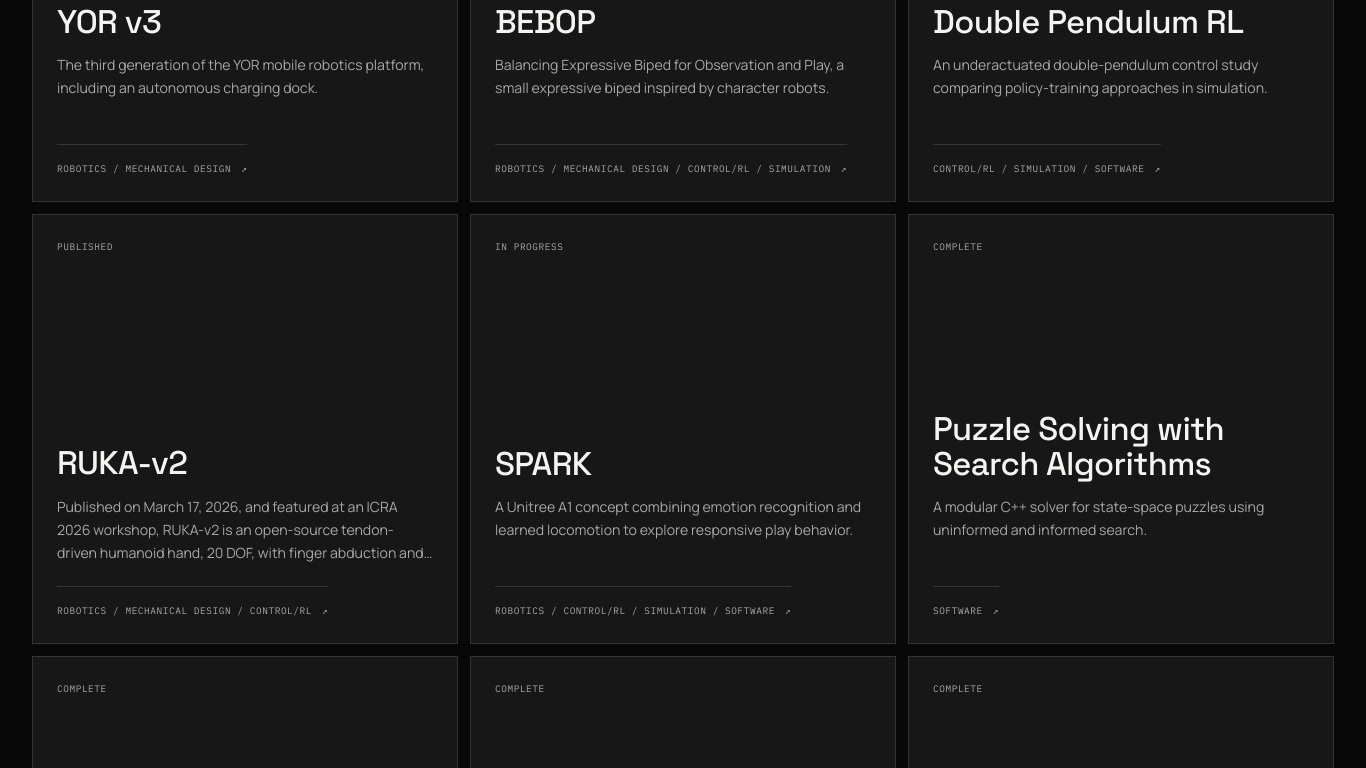
Test case: ProjectCatalogue › opens from pointer activation even when the browser does not focus buttons
This screenshot has width=1366, height=768.
(page scrolled)
Click the button with aria-label "Open RUKA-v2 details" at (245, 429), box [33,215,457,643]
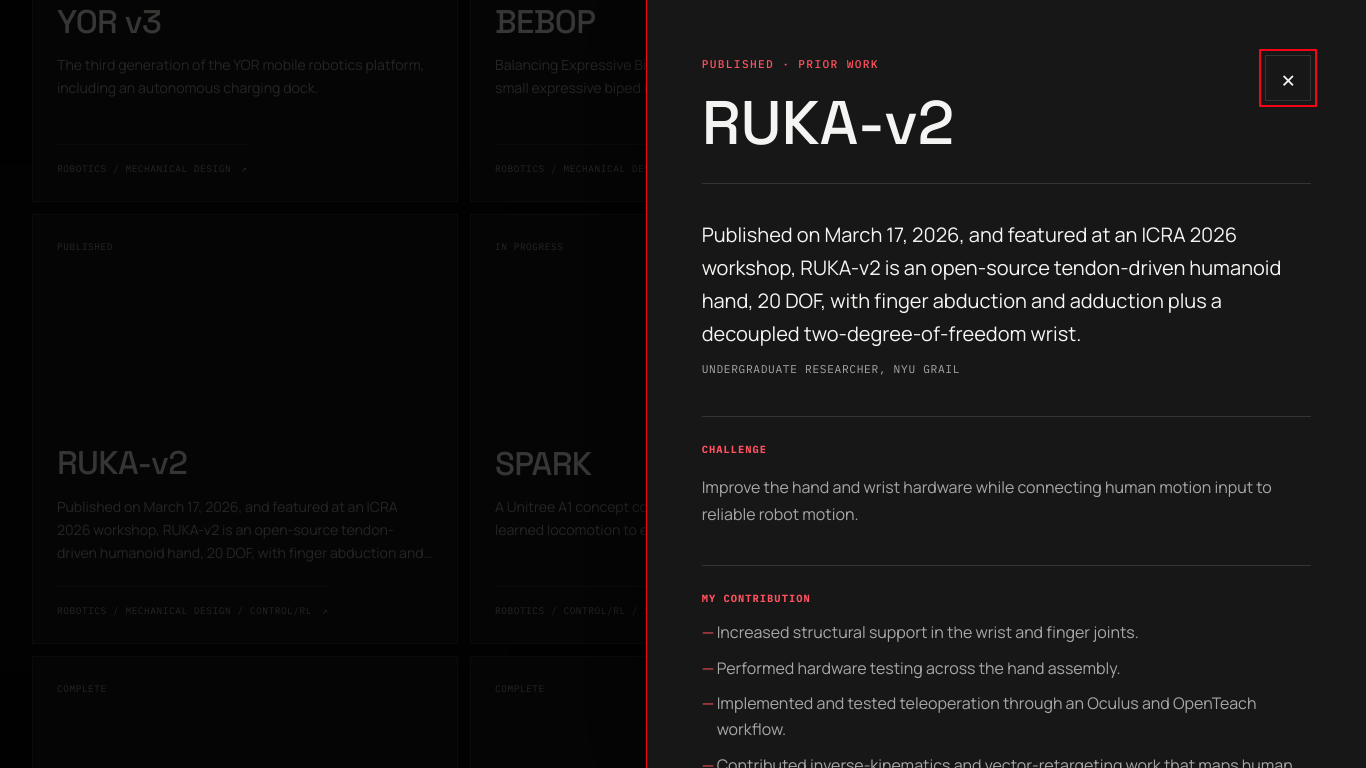
Expected: the dialog "RUKA-v2" is shown, [646,0,1365,767]
